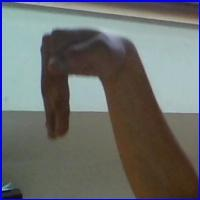A: (28, 24, 150, 150)
